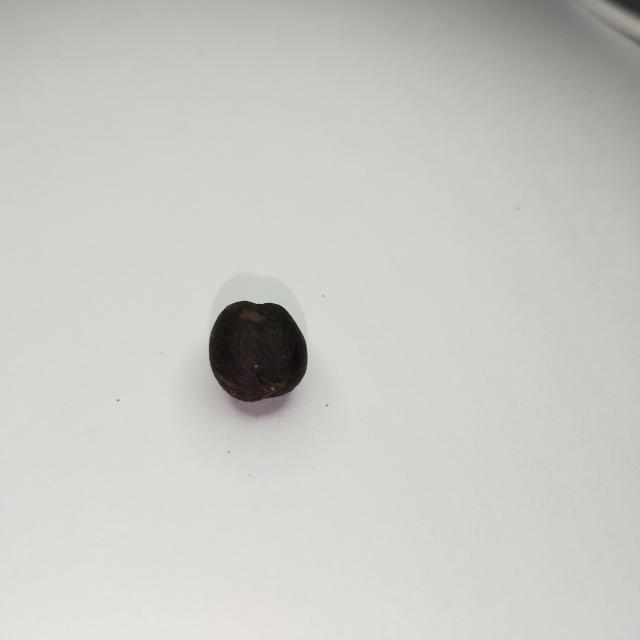Danado: (209, 303, 305, 401)
